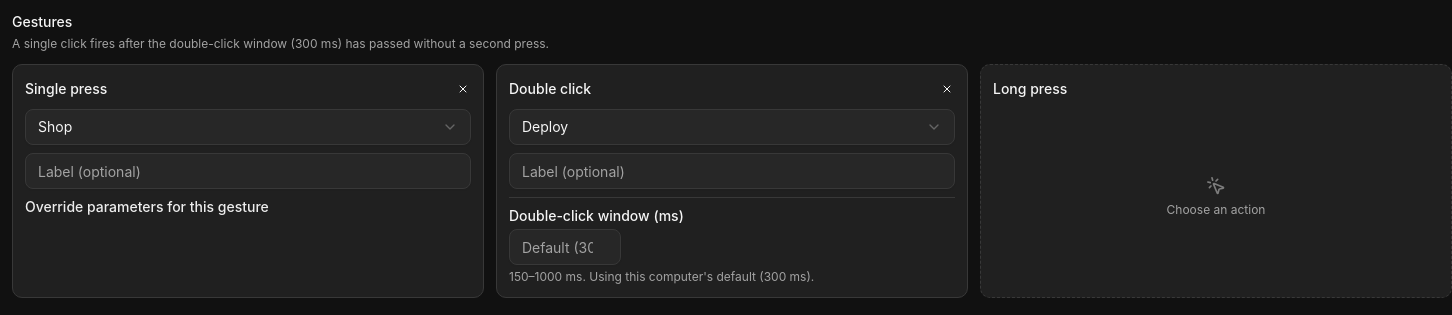
gesture cards › removes one gesture's assignment and leaves the others
What coordinates should you click on to do the following:
click the button named "Remove Double click"
I would click on:
 (947, 89)
Its box is [935, 77, 959, 101].
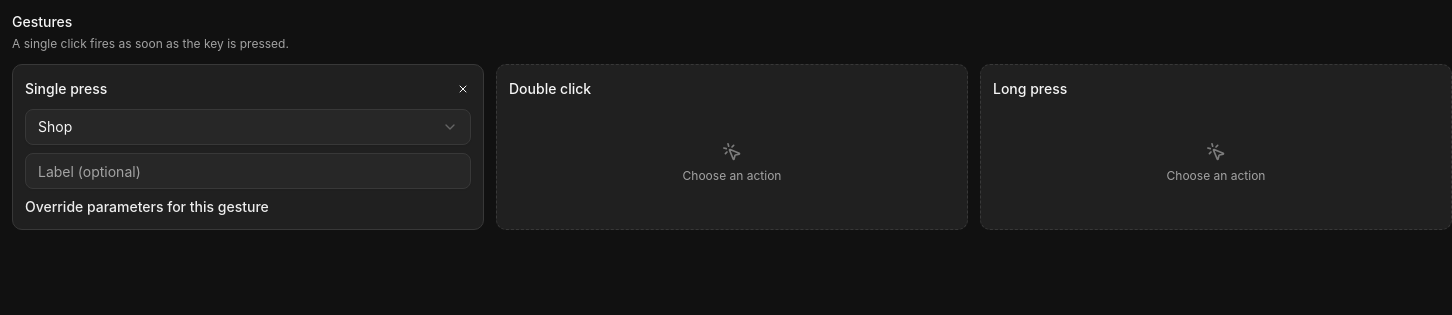
Expected: the dropdown named "Assign an action to: Double click" is shown, [509, 109, 955, 217]
